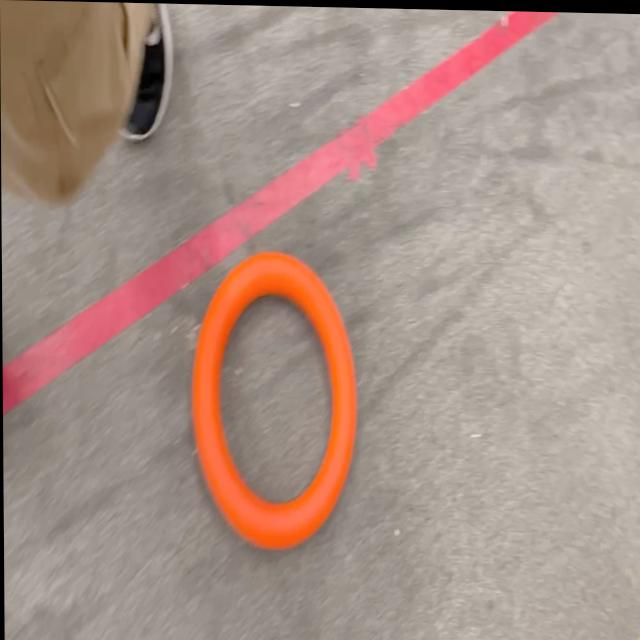note: (193, 248, 358, 551)
